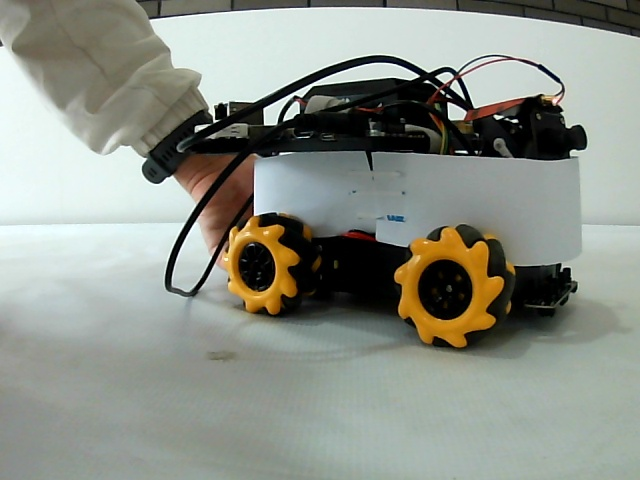car: (181, 77, 584, 340)
paper: (254, 159, 573, 222)
